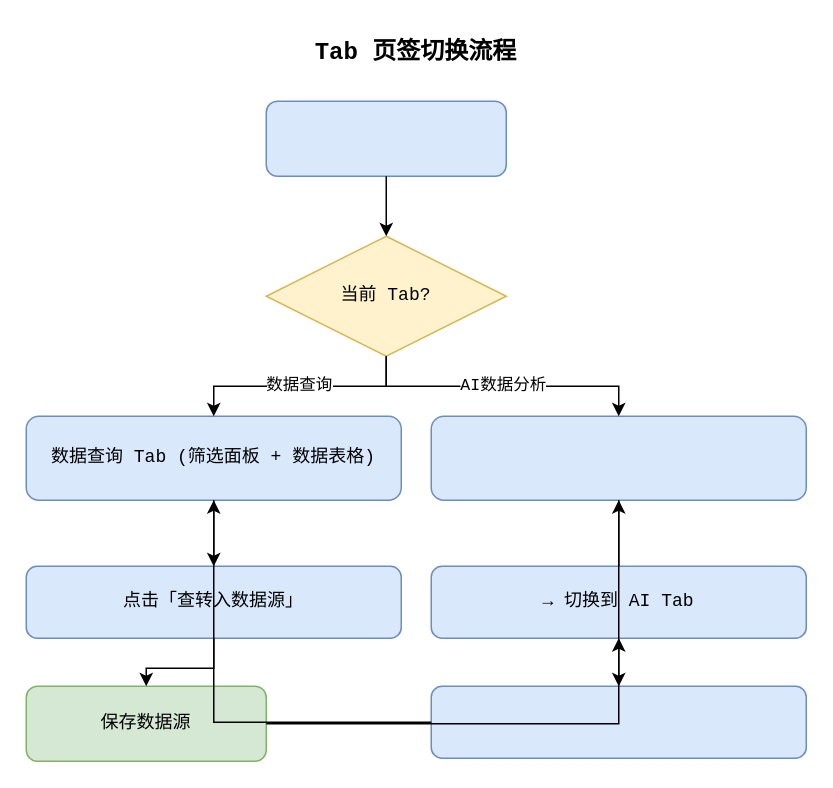
The diagram is 833 pixels wide and 788 high, and some of its shapes have lost their labels. Here are the shapes that lost their labels. From the top down, the centre of each, then its label:
At [385,138]: "Dashboard 主界面".
At [618,457]: "AI 数据分析 Tab (数据源列表 + Chat 界面)".
At [618,721]: "← 点击「数据查询」Tab".
